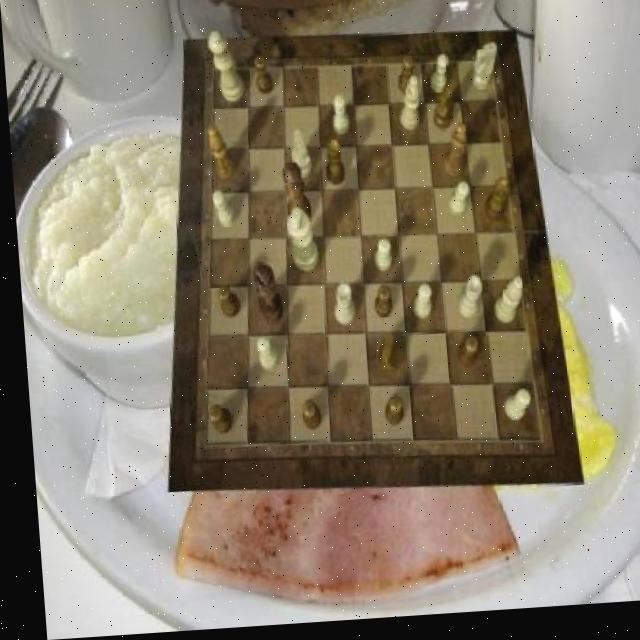bishop: (438, 128, 466, 184), (206, 127, 233, 183)
black-bishop: (248, 263, 278, 329)
black-king: (428, 86, 457, 136), (369, 336, 393, 379)
black-knight: (449, 341, 474, 376), (210, 287, 235, 322), (201, 407, 226, 437), (394, 62, 413, 101), (252, 60, 271, 99), (368, 290, 388, 325), (376, 401, 397, 433), (294, 403, 315, 435)
black-pawn: (277, 165, 308, 232)
black-queen: (478, 185, 507, 230), (321, 143, 341, 191)
black-rook: (487, 283, 521, 330), (394, 80, 419, 136)
white-bishop: (282, 209, 315, 276)
white-king: (468, 50, 498, 96), (289, 134, 310, 184)
white-knight: (496, 395, 525, 428), (426, 60, 449, 100), (209, 192, 233, 230), (444, 187, 468, 223), (329, 99, 348, 140), (406, 288, 428, 323), (250, 339, 271, 374), (369, 243, 388, 277)
white-pawn: (207, 32, 244, 107)
white-queen: (450, 281, 477, 325), (328, 287, 351, 330)
